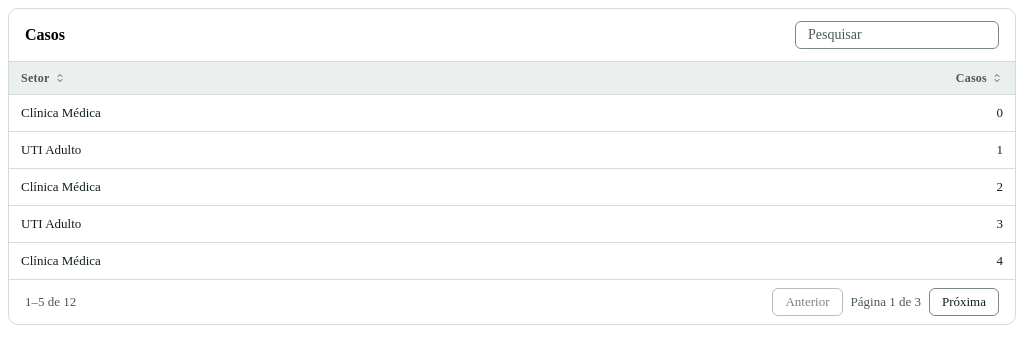
Test: DataTable › searches, sorts and paginates
The width and height of the screenshot is (1024, 342).
Expected: the text "1–5 de 12" is shown, x1=25 y1=294 x2=76 y2=310
Type "uti" into the search field at (897, 35), box x1=795 y1=21 x2=999 y2=49
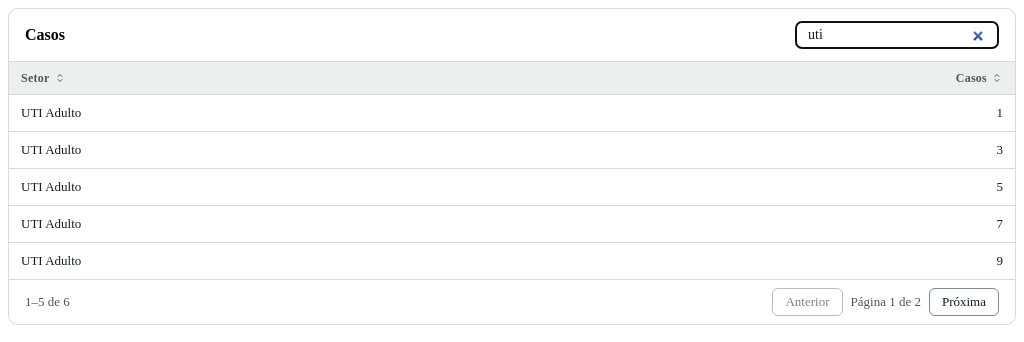
Expected: the number of rows is 6, x1=9 y1=62 x2=1015 y2=94; x1=9 y1=94 x2=1015 y2=132; x1=9 y1=132 x2=1015 y2=168; x1=9 y1=168 x2=1015 y2=206; x1=9 y1=206 x2=1015 y2=242; x1=9 y1=242 x2=1015 y2=279
Click the button "Casos" at (979, 78), box x1=956 y1=70 x2=1003 y2=86
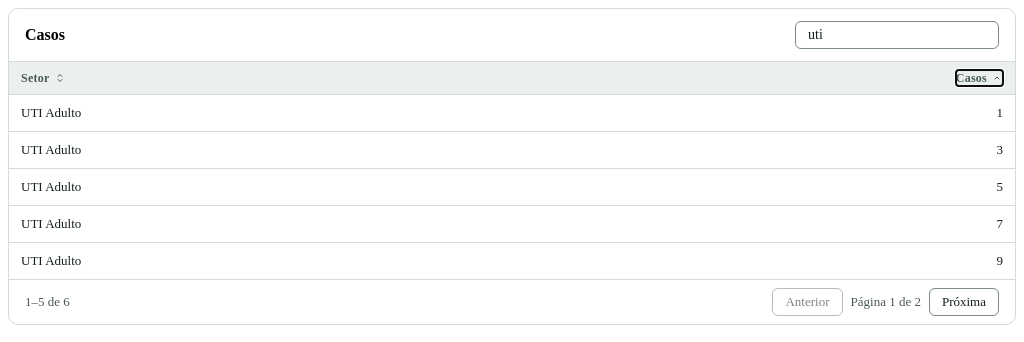
Click the button "Casos" at (979, 78), box x1=956 y1=70 x2=1003 y2=86
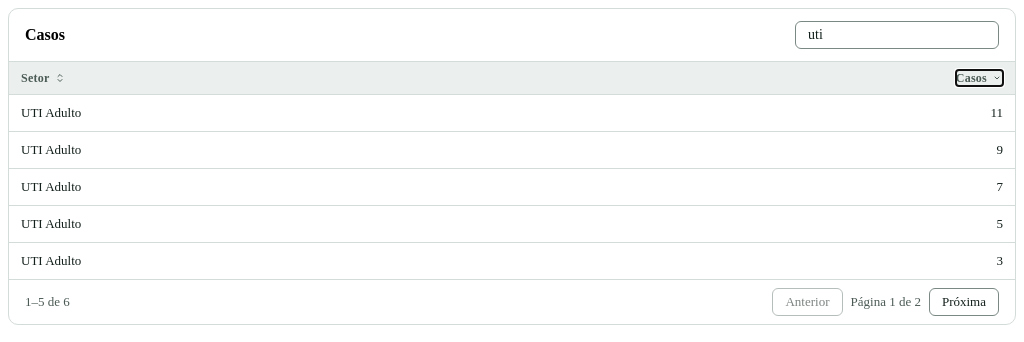
Result: the text "11" is shown at x1=554 y1=94 x2=1015 y2=132
